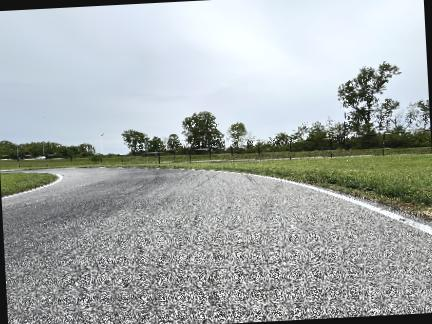Grass: (124, 154, 431, 219), (143, 155, 431, 219), (0, 154, 209, 169), (0, 173, 57, 196)
Lane: (2, 168, 431, 323)
